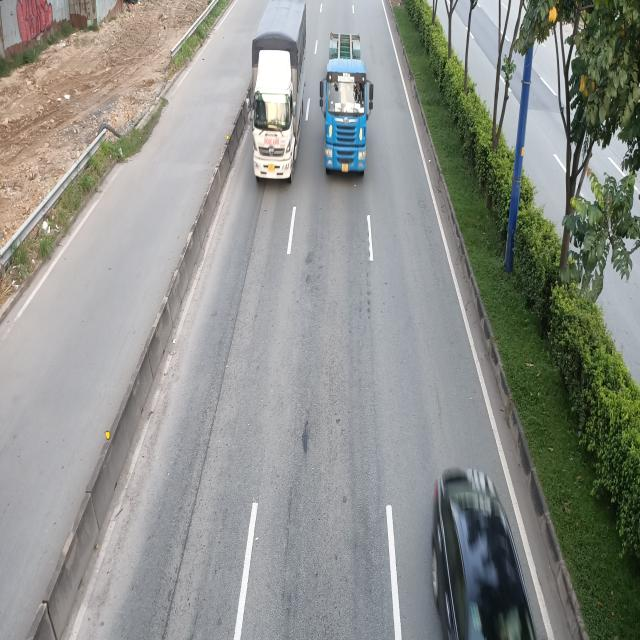car: (426, 467, 548, 640)
container: (320, 27, 375, 177)
truck: (248, 1, 308, 182)
